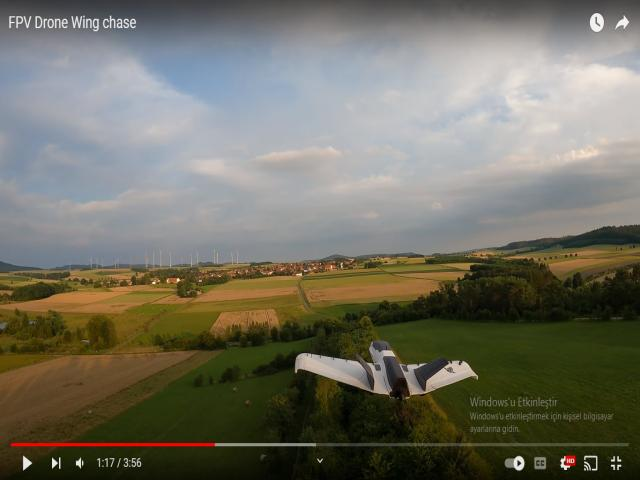plane: (293, 340, 479, 401)
